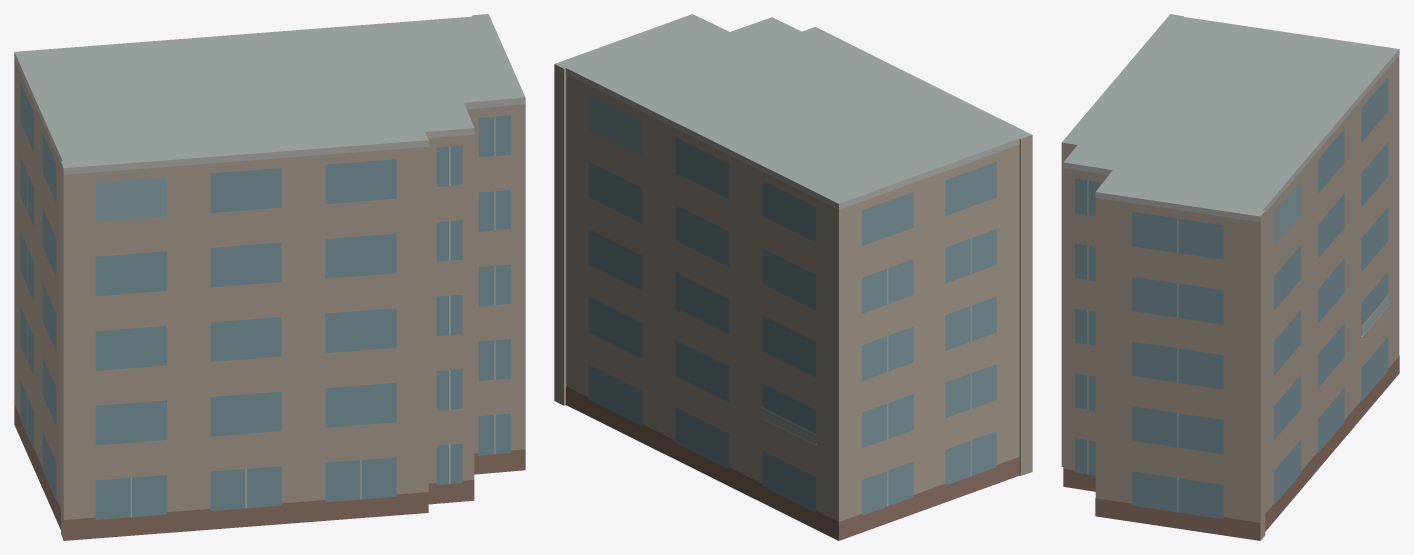
File: survey-upis-33004891.glb
3 views of the same model, side by side, from view 1: azimuth 30°, elevation 25°; view 2: azimuth 150°, elevation 25°; view 3: azimuth 270°, elevation 25° (orthographic). The views are drawn at different scales.
Visible parts, largest first — view 1: survey-upis-33004891.tmp; view 2: survey-upis-33004891.tmp; view 3: survey-upis-33004891.tmp.
Boxes of the visible parts, x1,y1,x2,y2 form: survey-upis-33004891.tmp: [14, 14, 525, 540]; survey-upis-33004891.tmp: [554, 14, 1032, 540]; survey-upis-33004891.tmp: [1061, 14, 1399, 540].
Size of the model in its own units: 18.36 by 13.7 by 12.95.
